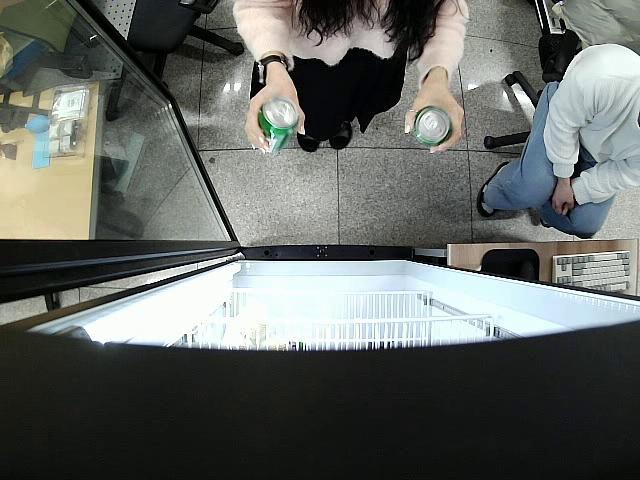00_hand: (243, 85, 308, 155), (405, 91, 464, 153)
12_chilsungCider: (257, 95, 299, 156), (413, 106, 453, 146)
